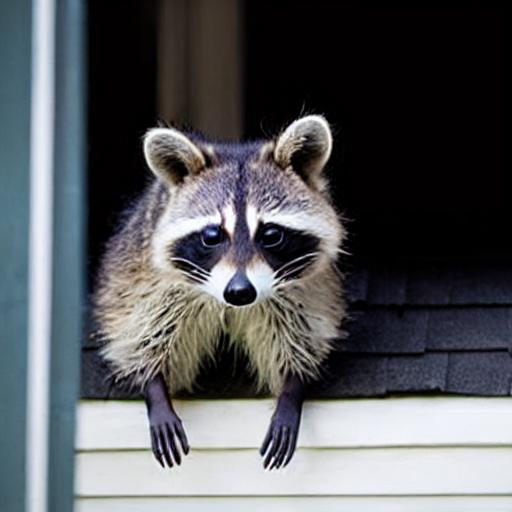raccoon: (88, 99, 358, 421)
